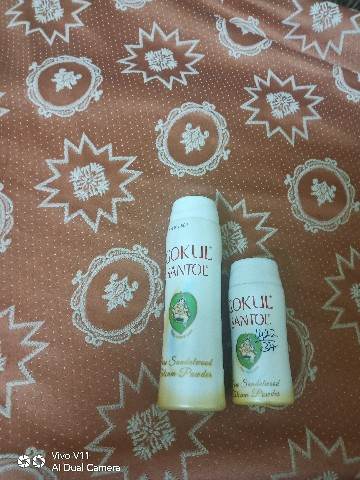gokulsantol big: (150, 190, 230, 419)
gokulsantol small: (221, 257, 313, 416)
